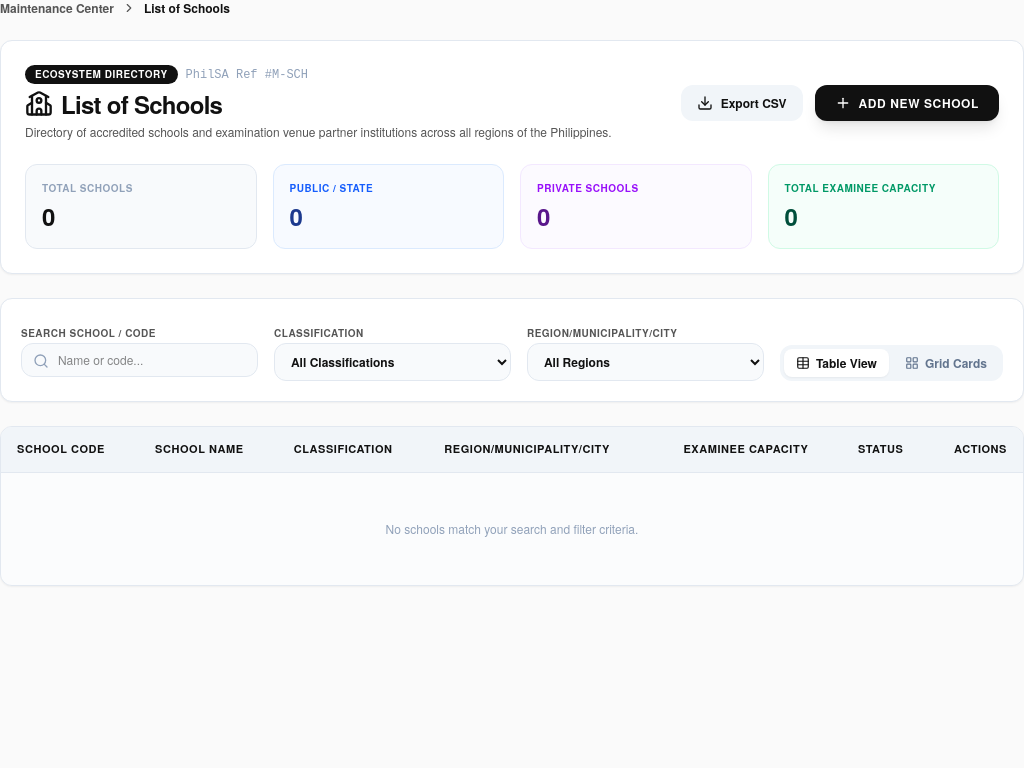
it: SchoolsListMaintenance › creates a school through the service and renders the persisted row
Expected: the text "No schools match your search and filter criteria." is shown, x1=1 y1=472 x2=1023 y2=584
Click the button "Add New School": coordinates (907, 102) x1=814 y1=84 x2=999 y2=120
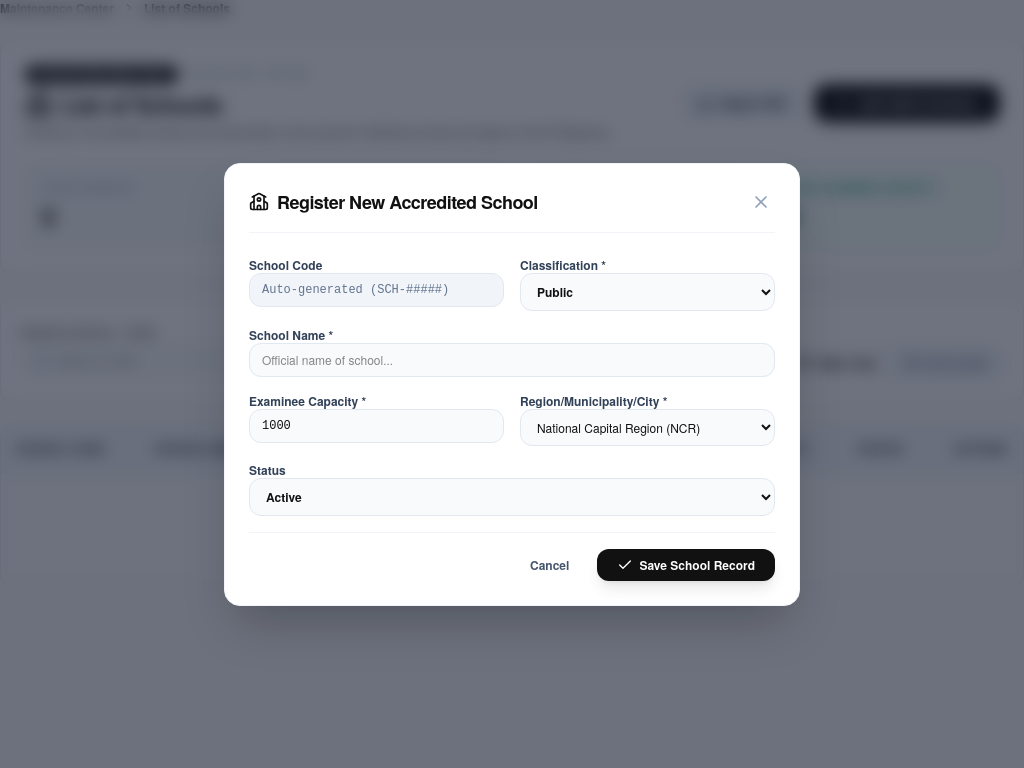
In the field with placeholder "Official name of school...": coordinates (512, 360) x1=249 y1=342 x2=775 y2=376, type "Philippine Science High School"
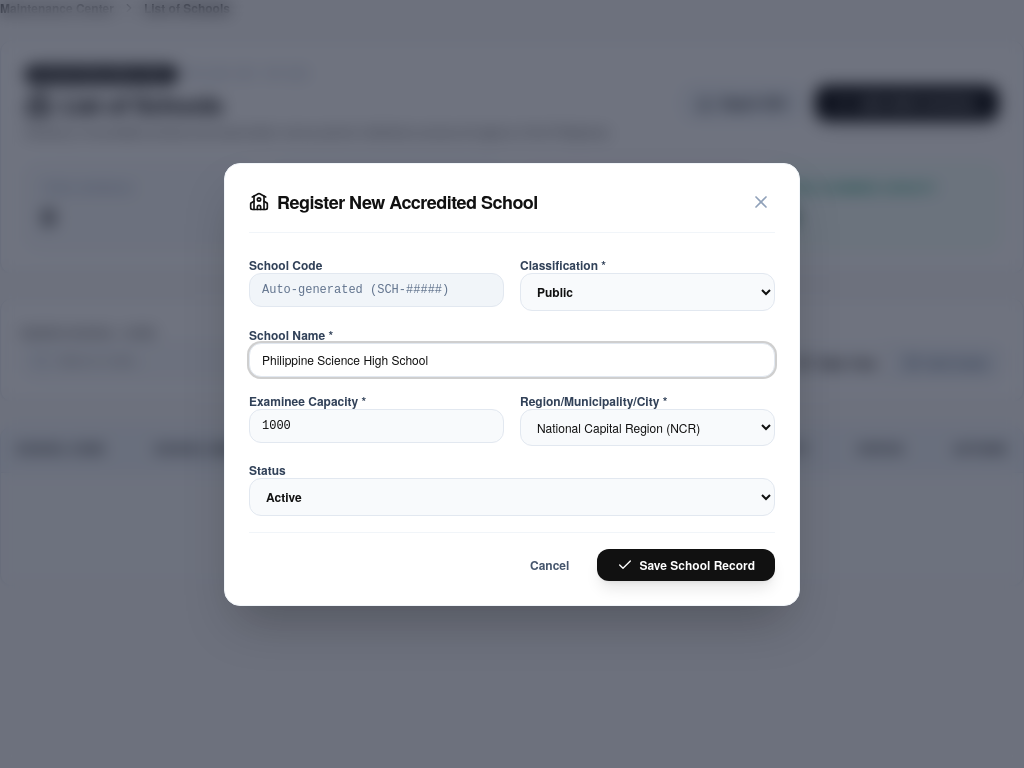
Click the button "Save School Record": coordinates (686, 564) x1=597 y1=548 x2=775 y2=580
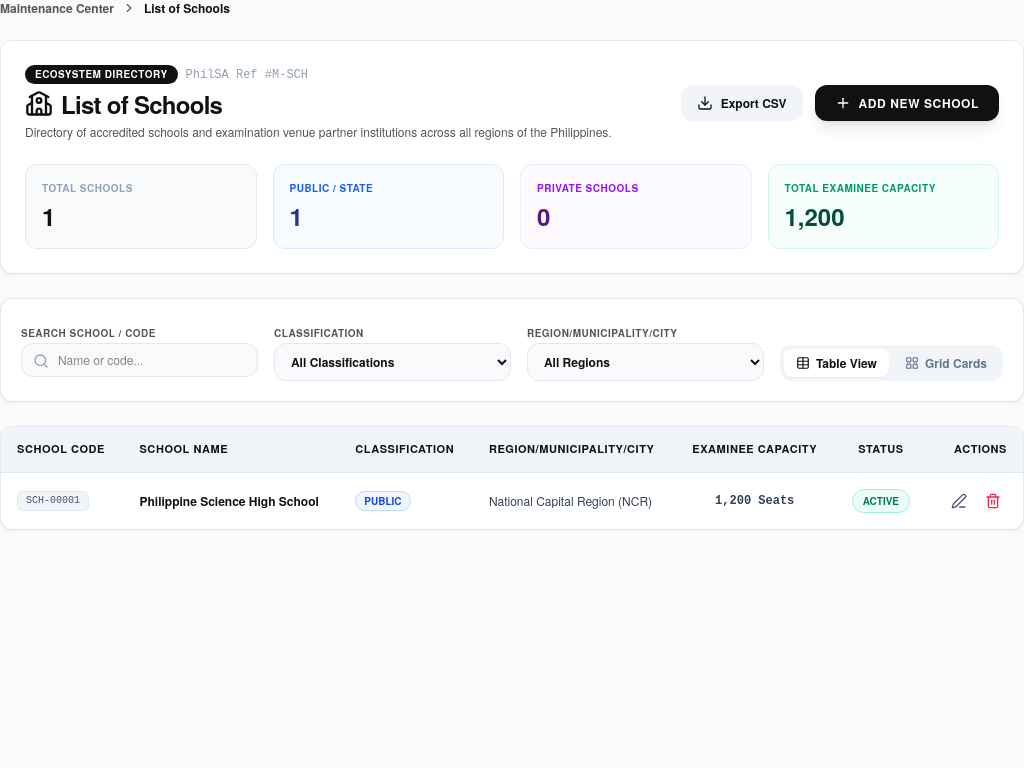
Expected: the text "Philippine Science High School" is shown, x1=124 y1=472 x2=339 y2=528
